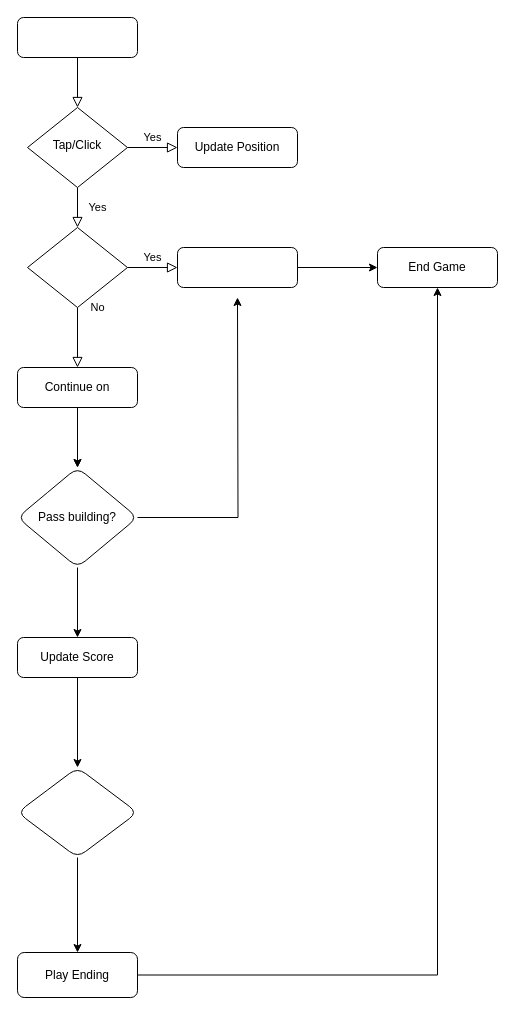
The diagram is 515 pixels wide and 1015 high, and some of its shapes have lost their labels. The centre of each missing label's shape, as x and y in pixels:
Display Game Over Screen: the point at 237,267
Hit a Building?: the point at 77,267
Pass 100?: the point at 77,812
Start: the point at 77,37
